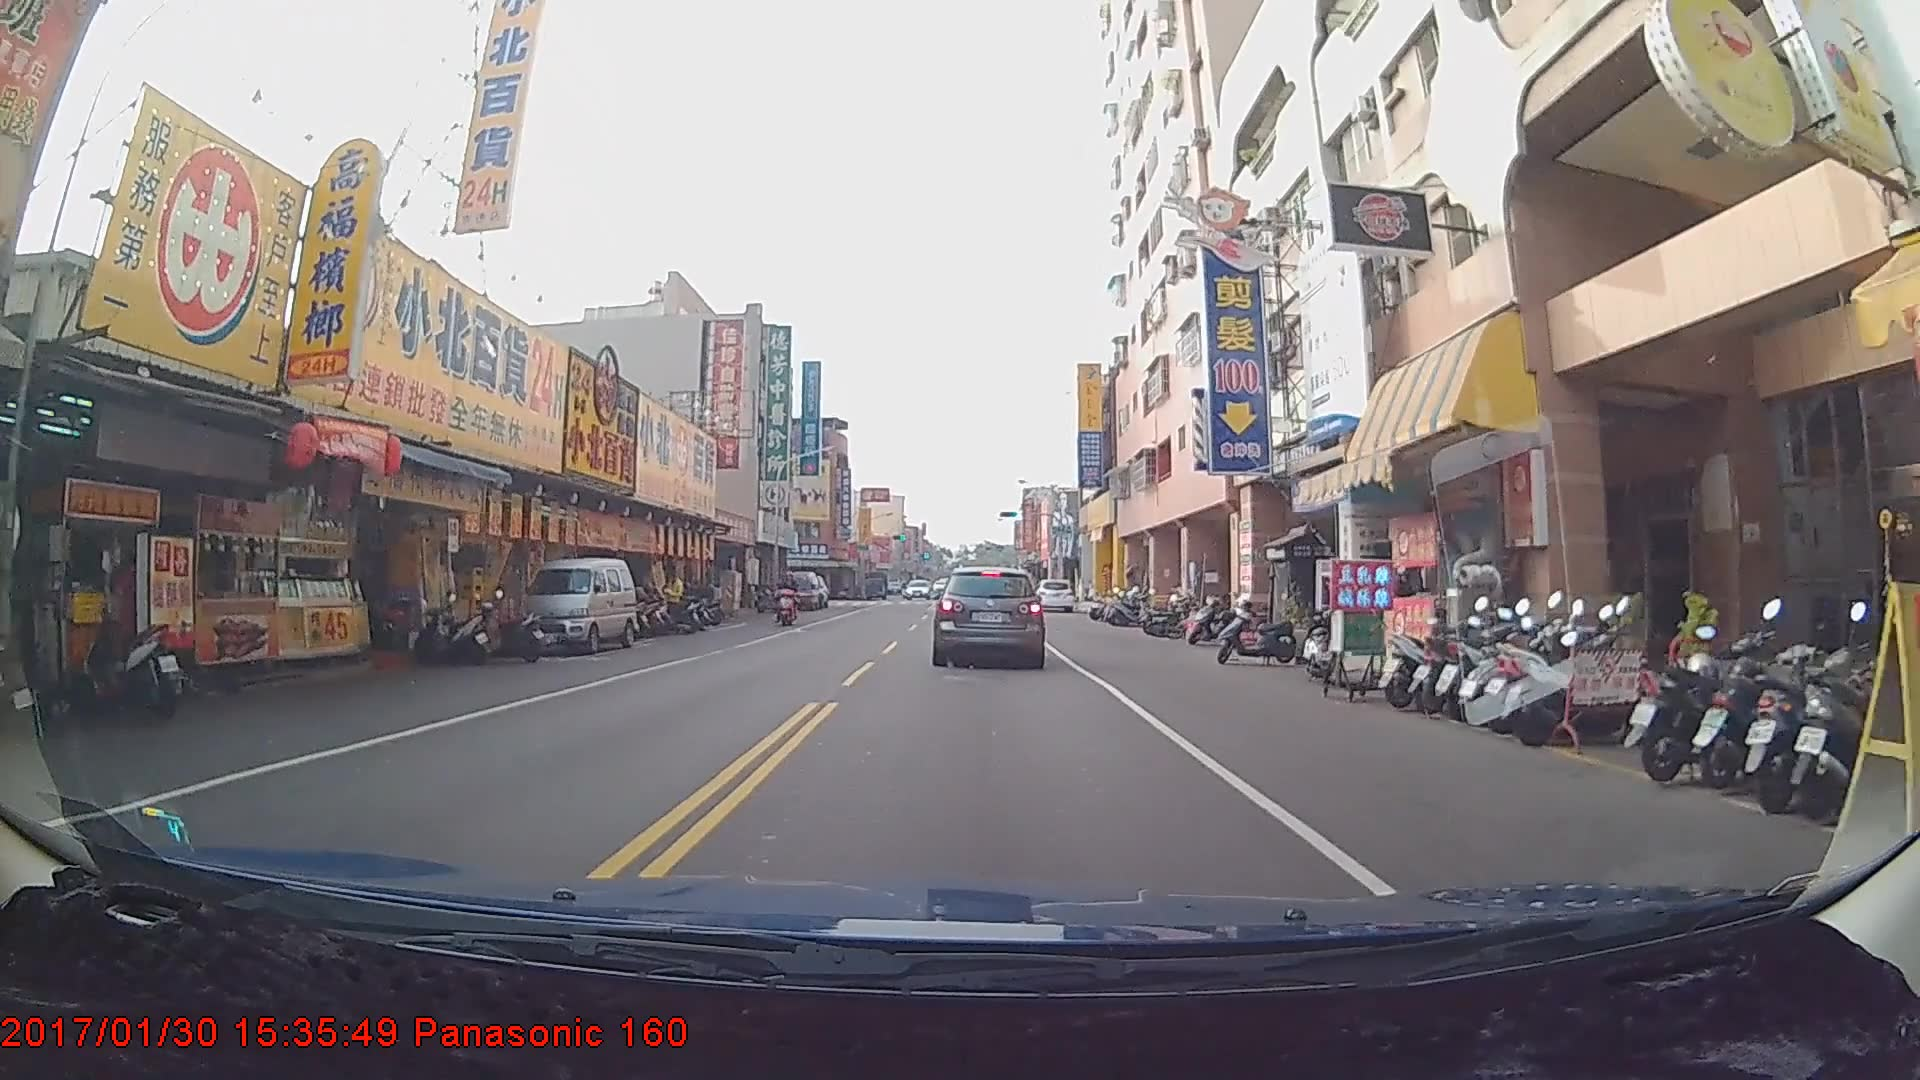pedestrian: (659, 570, 685, 628)
rider: (780, 570, 806, 628)
vehicle: (512, 557, 634, 654), (932, 565, 1045, 666), (781, 568, 820, 609), (1035, 579, 1075, 613), (904, 578, 929, 598)
